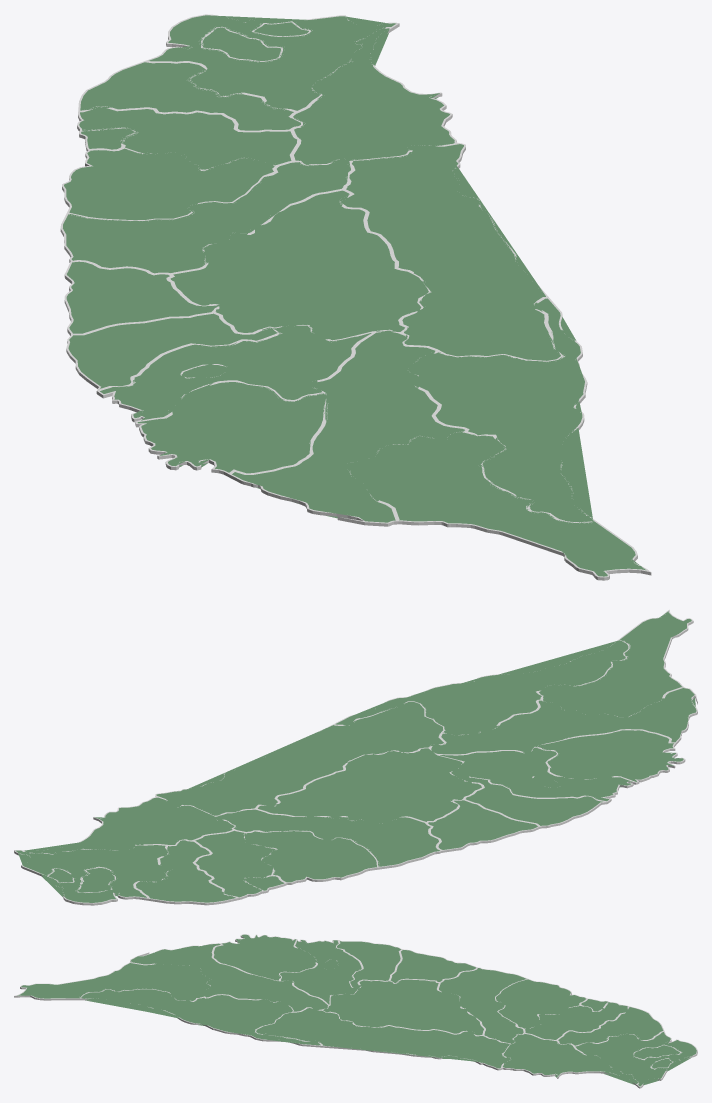
Rendered from Taiwan_Edges.fbx.
3 views of the same model, one above another, from view 1: azimuth 30°, elevation 25°; view 2: azimuth 150°, elevation 25°; view 3: azimuth 270°, elevation 25° (orthographic). The views are drawn at different scales.
Parts seen in each view (by area): view 1: TWHUA, TWNAN, TWKHH, TWTTT, TWPIF, TWTXG, TWNWT, TWTNN, TWILA, TWCYQ, TWMIA, TWHSQ (+4 smaller); view 2: TWHUA, TWNAN, TWKHH, TWTTT, TWNWT, TWTXG, TWPIF, TWTNN, TWILA, TWCYQ, TWMIA, TWHSQ (+4 smaller); view 3: TWHUA, TWNAN, TWTTT, TWKHH, TWNWT, TWPIF, TWTXG, TWILA, TWTNN, TWCYQ, TWMIA, TWHSQ (+4 smaller).
Part boxes in pixels (x1,y1,x2,y2): TWHUA: (339, 143, 562, 361); TWNAN: (168, 189, 430, 341); TWKHH: (229, 331, 468, 526); TWTTT: (418, 297, 595, 522); TWPIF: (379, 431, 651, 580); TWTXG: (60, 160, 352, 274); TWNWT: (144, 14, 399, 111); TWTNN: (135, 381, 326, 476); TWILA: (291, 27, 459, 165); TWCYQ: (96, 332, 374, 422); TWMIA: (62, 148, 276, 220); TWHSQ: (77, 107, 299, 170); TWHUA: (155, 701, 444, 816); TWNAN: (256, 748, 483, 822); TWKHH: (430, 687, 697, 754); TWTTT: (334, 639, 629, 734); TWNWT: (14, 844, 168, 905); TWTXG: (215, 809, 442, 869); TWPIF: (537, 609, 693, 700); TWTNN: (537, 729, 685, 784); TWILA: (23, 796, 235, 851); TWCYQ: (438, 746, 635, 803); TWMIA: (246, 830, 378, 884); TWHSQ: (193, 830, 277, 899); TWHUA: (255, 1007, 510, 1070); TWNAN: (322, 979, 484, 1035); TWTTT: (80, 988, 321, 1047); TWKHH: (130, 943, 329, 1012); TWNWT: (574, 1031, 697, 1088); TWPIF: (14, 962, 204, 1001); TWTXG: (438, 967, 527, 1043); TWILA: (501, 1033, 637, 1085); TWTNN: (212, 934, 316, 981); TWCYQ: (279, 939, 362, 1005); TWMIA: (495, 979, 587, 1028); TWHSQ: (524, 1002, 628, 1040).
Size of the model in its own units: 10.45 by 0.05 by 19.74.
